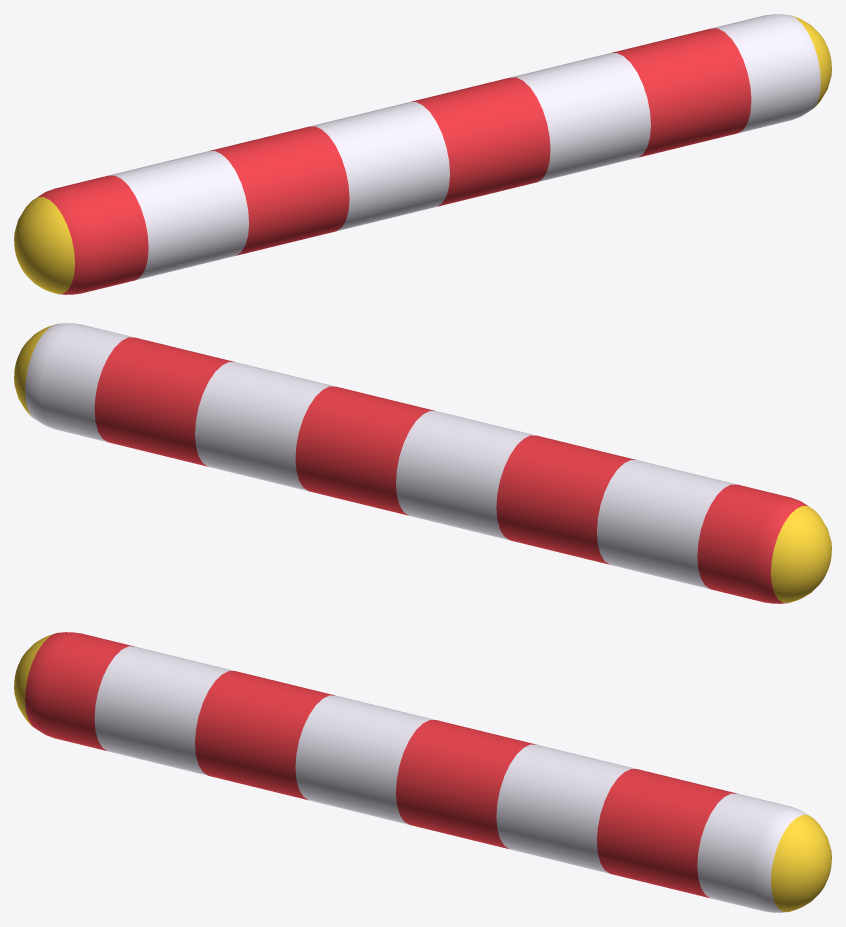
Rendered from sweeper_bar_6.glb.
3 renders of one model, top to bottom at view 1: azimuth 30°, elevation 25°; view 2: azimuth 150°, elevation 25°; view 3: azimuth 330°, elevation 25°, orthographic.
Parts seen in each view (by area): view 1: sweeper_bar_6; view 2: sweeper_bar_6; view 3: sweeper_bar_6.
Boxes of the visible parts, <box> form: sweeper_bar_6: <box>14,14,831,294</box>; sweeper_bar_6: <box>14,323,831,603</box>; sweeper_bar_6: <box>14,632,831,912</box>.
Size of the model in its own units: 6 by 0.7 by 0.7.
1 material, 1 textured.
